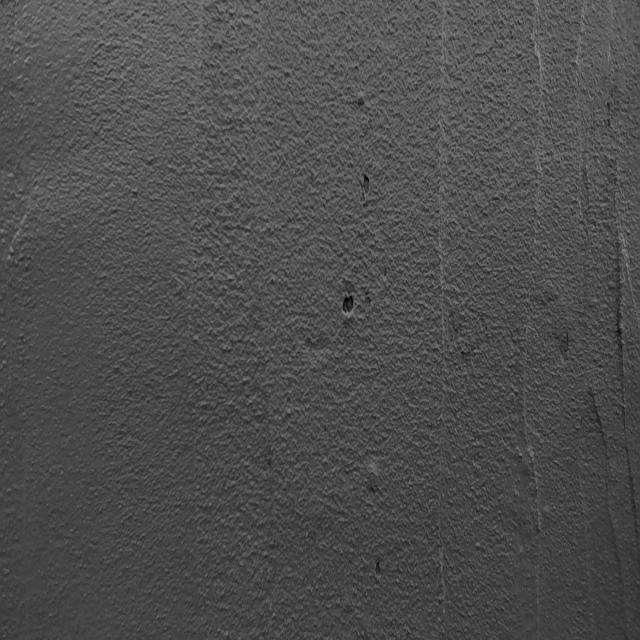trowels marks: (608, 229, 635, 534)
